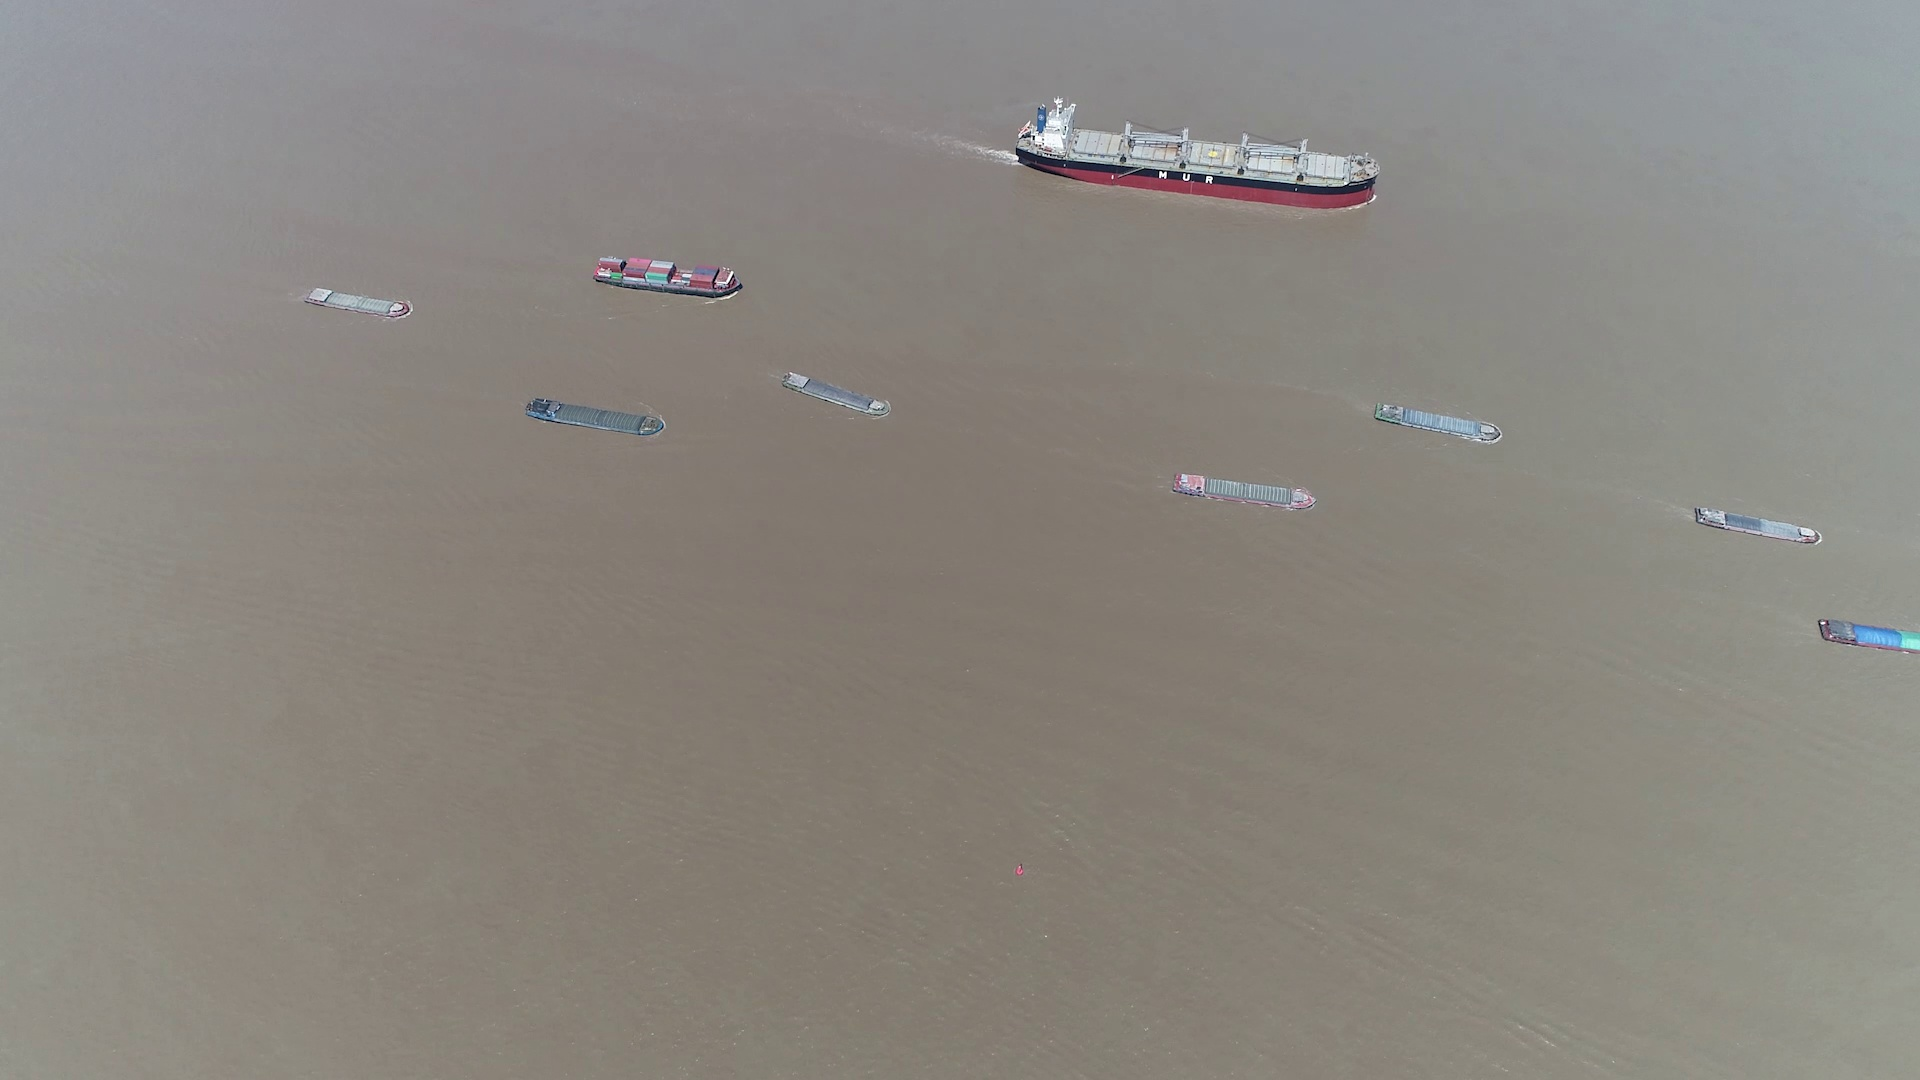ship: (1015, 102, 1375, 206), (593, 256, 742, 297), (524, 400, 669, 439), (1172, 472, 1316, 512), (781, 371, 891, 419), (1374, 402, 1502, 444), (1695, 504, 1821, 545), (1816, 617, 1919, 655), (305, 286, 411, 319)
